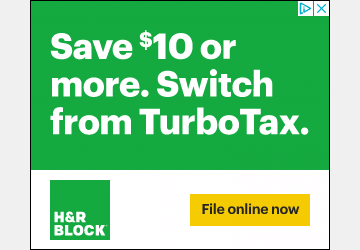fake_button: (186, 188, 313, 232)
